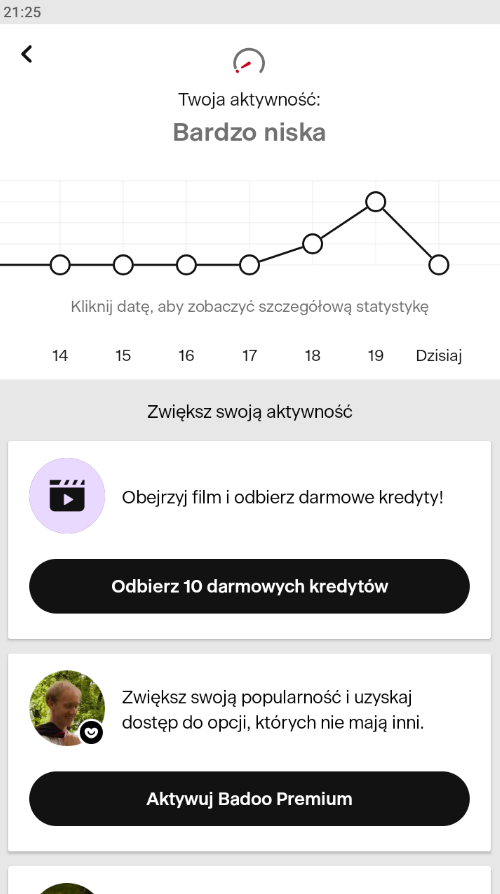kupno_button: (33, 772, 471, 828)
start_button: (26, 560, 470, 612)
